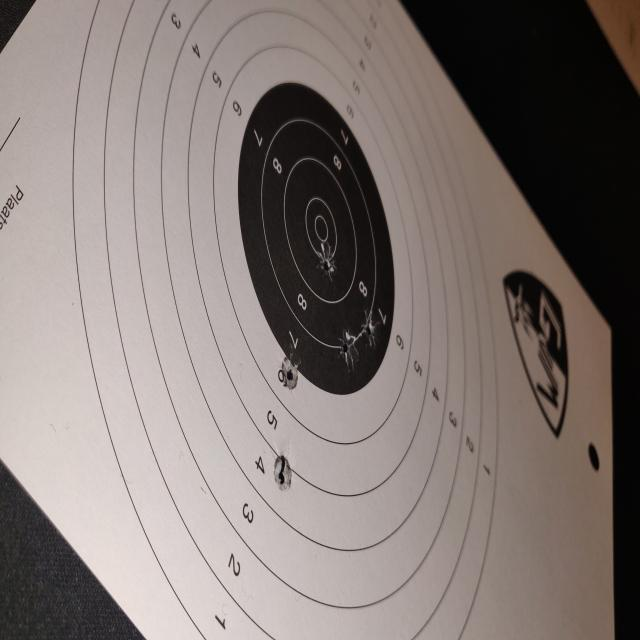10: (320, 246, 336, 281)
5: (274, 450, 294, 497)
7: (282, 351, 300, 392)
8: (338, 329, 358, 372), (362, 306, 378, 351)
Target: (72, 0, 499, 640)
black_contour: (237, 78, 395, 396)
